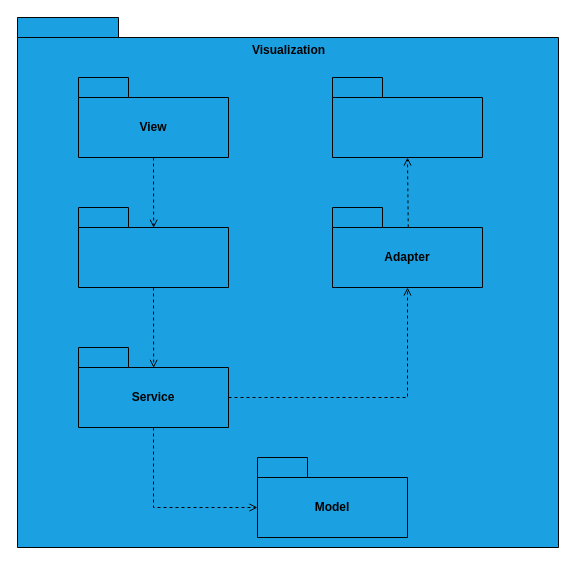
This 576x565 diagram has some shape labels left out. The centre of each missing label's shape, as x and y in pixels:
Component: [153,247]
HttpDriver: [407,117]
